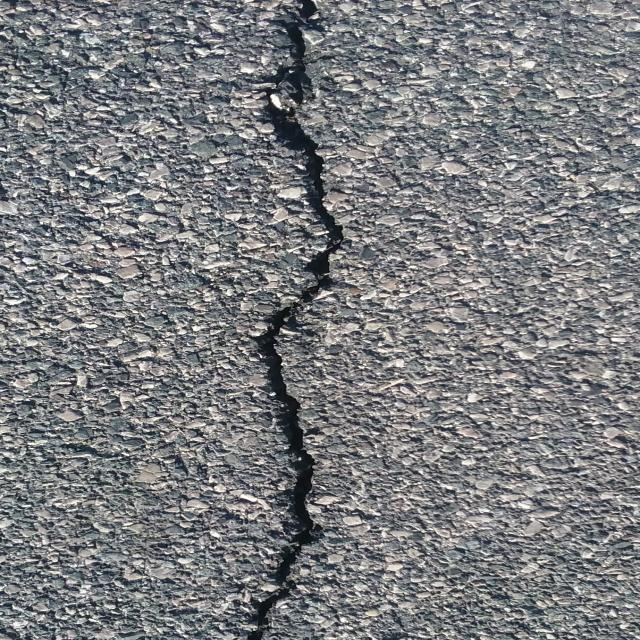Crack: (231, 0, 346, 640)
